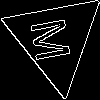M: (30, 14, 79, 64)
